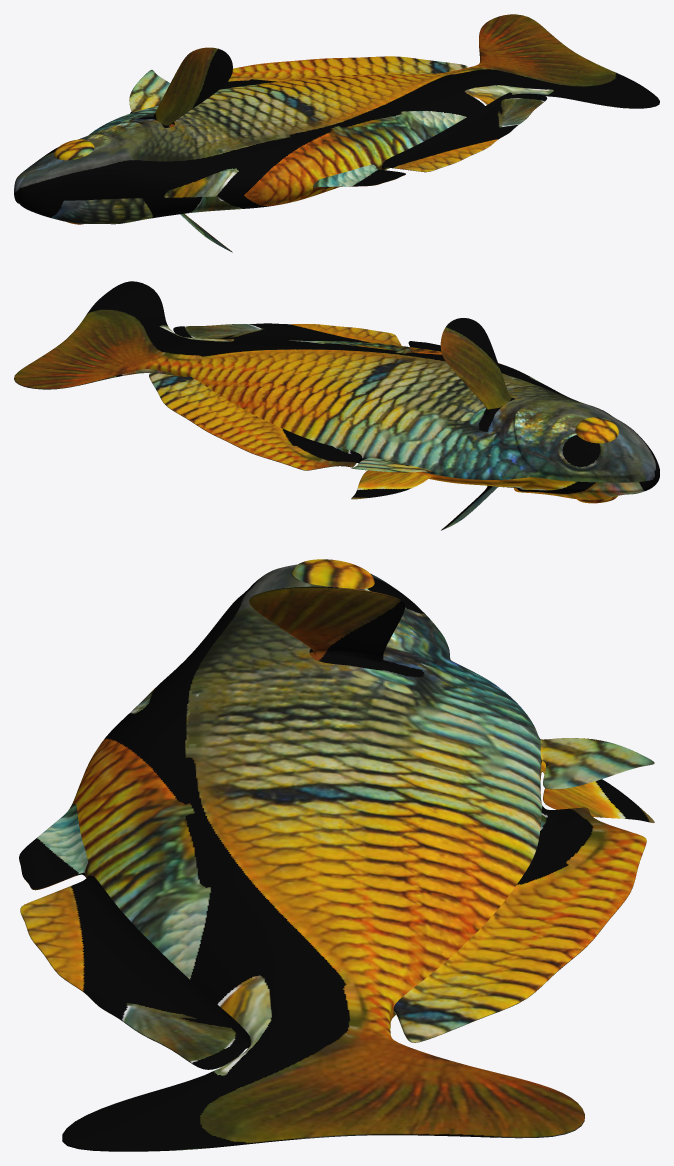
Rendered from 12999_Boesemani_Rainbow_v1_l2.obj.
The picture shows the model from 3 angles, top to bottom: view 1: azimuth 30°, elevation 25°; view 2: azimuth 150°, elevation 25°; view 3: azimuth 270°, elevation 25°; orthographic projection. The views are drawn at different scales.
Parts seen in each view (by area): view 1: 12999_Boesemani_Rainbow; view 2: 12999_Boesemani_Rainbow; view 3: 12999_Boesemani_Rainbow.
Boxes of the visible parts, box(x1,y1,x2,y2) form: 12999_Boesemani_Rainbow: box(14, 14, 659, 252); 12999_Boesemani_Rainbow: box(14, 281, 659, 530); 12999_Boesemani_Rainbow: box(19, 559, 654, 1151).
Size of the model in its own units: 10.98 by 3.51 by 5.2.
1 material, 1 textured.
